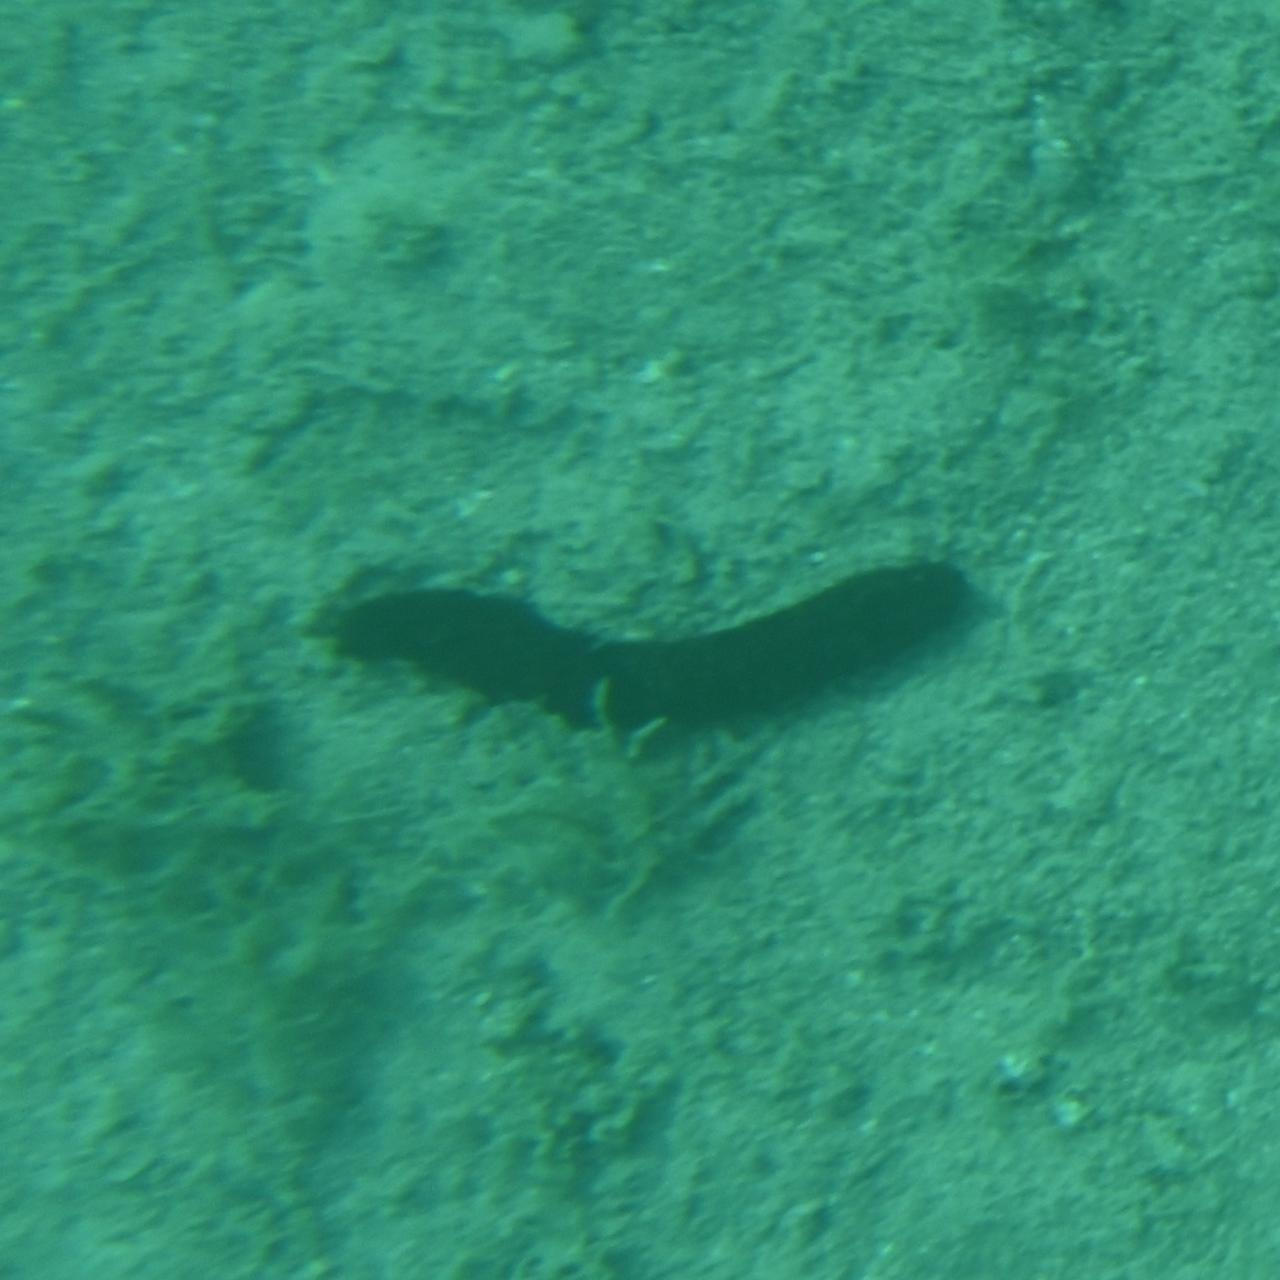Holothuria tubulosa: (298, 541, 982, 739)
